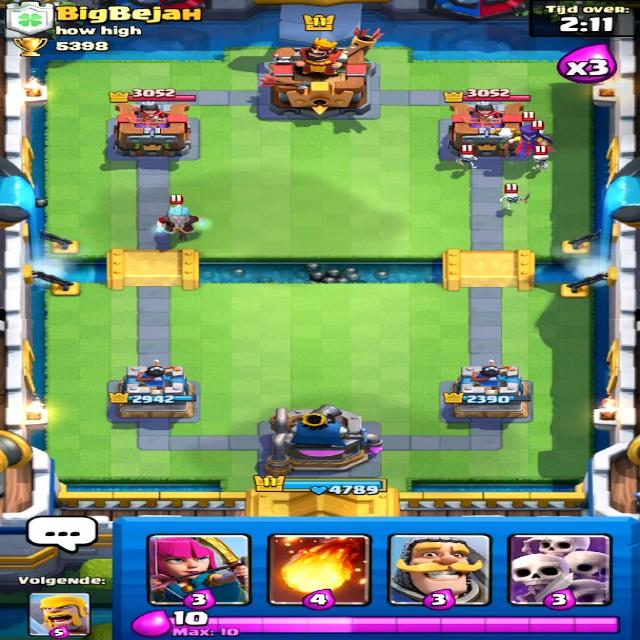Enemy_Ice_Wizard_Troop: (150, 206, 210, 238)
Enemy_Skeleton_Troop: (493, 190, 535, 209), (524, 154, 555, 170), (454, 152, 482, 169)
Enemy_Witch_Troop: (507, 127, 552, 155)
Fireball_Card: (262, 539, 363, 603)
